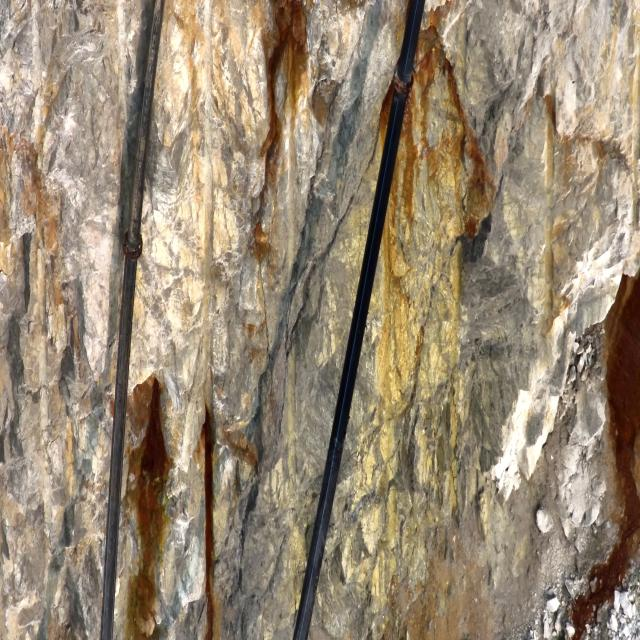leak: (401, 86, 412, 167)
